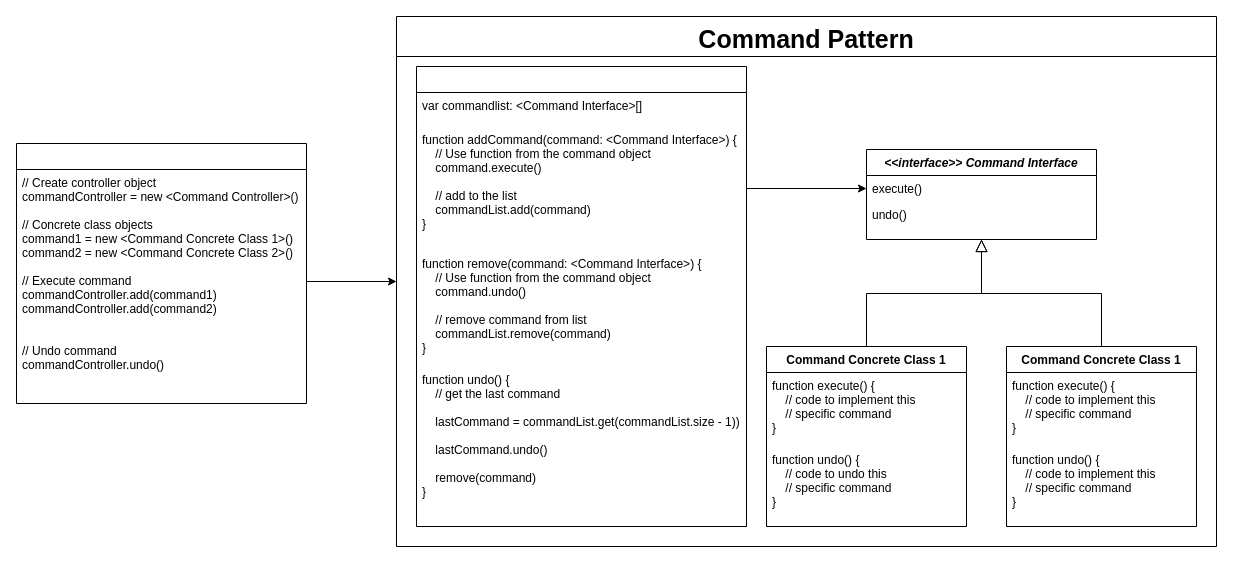
The diagram is 1233 pixels wide and 563 high, and some of its shapes have lost their labels. The shapes that lost their labels are listed below. From the top down, each one's box as (x1, y1, x2, y2) in pixels, then its label:
(16, 142, 306, 404): Client
(416, 66, 746, 526): Command Controller
